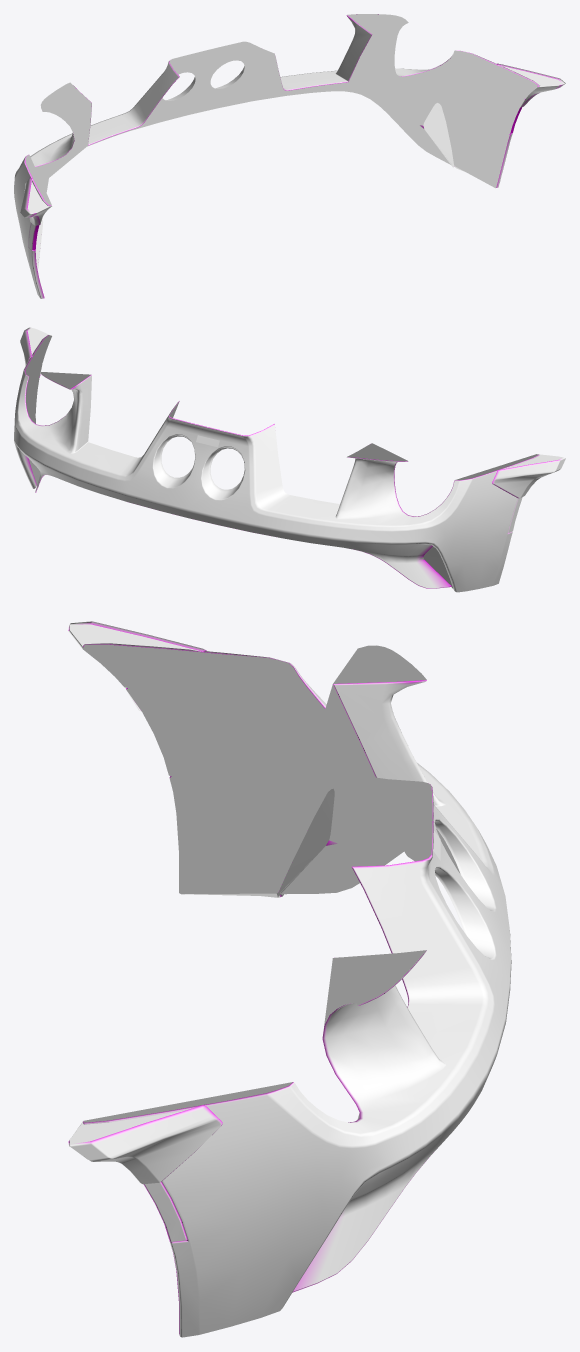
The model's file is Car_Ford_GT_2017_BumperR_SetA_AltA.fbx.
3 views of the same model, one above another, from view 1: azimuth 30°, elevation 25°; view 2: azimuth 150°, elevation 25°; view 3: azimuth 270°, elevation 25° (orthographic). The views are drawn at different scales.
Visible parts, largest first — view 1: BumperR 6; view 2: BumperR 6; view 3: BumperR 6.
Boxes of the visible parts, x1,y1,x2,y2 form: BumperR 6: [14, 14, 565, 298]; BumperR 6: [14, 327, 565, 592]; BumperR 6: [68, 621, 511, 1337].
Size of the model in its own units: 2.17 by 0.5797 by 0.7764.
